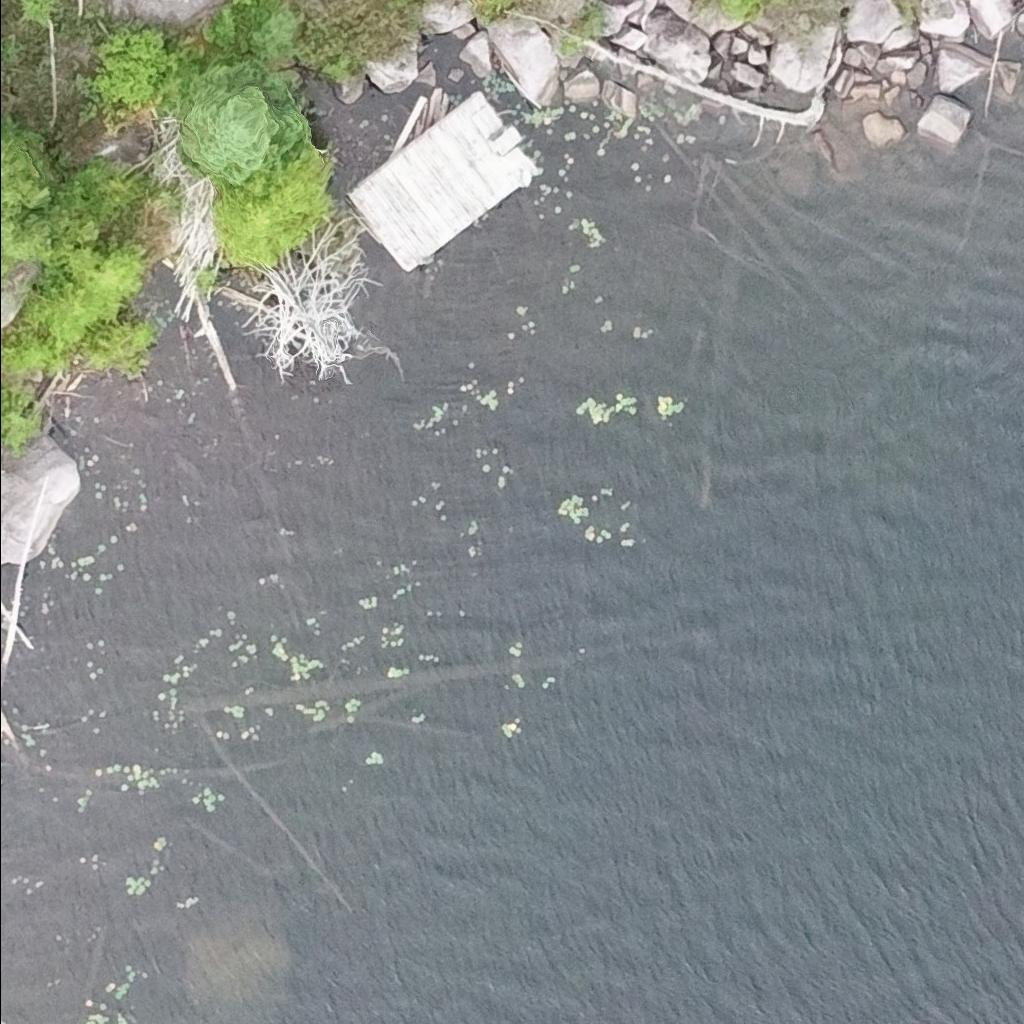crown: (177, 57, 309, 188), (214, 139, 332, 259), (0, 113, 52, 276)
